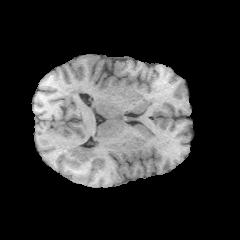glioma: (60, 141, 101, 165)
